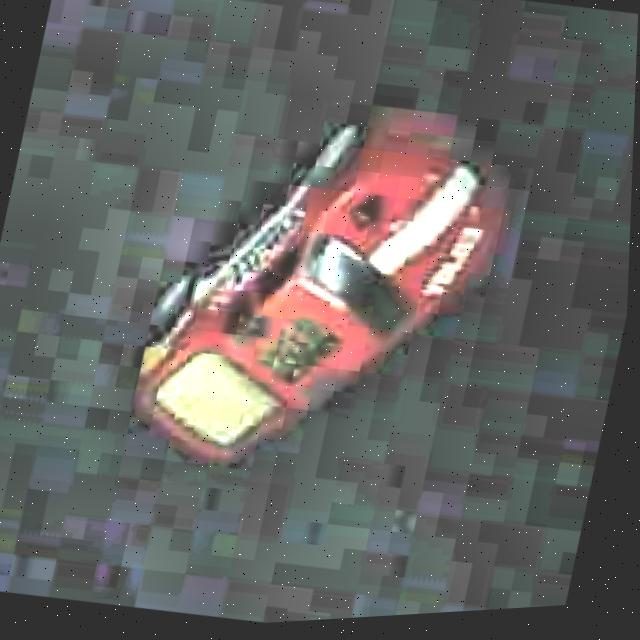car: (116, 58, 530, 514)
